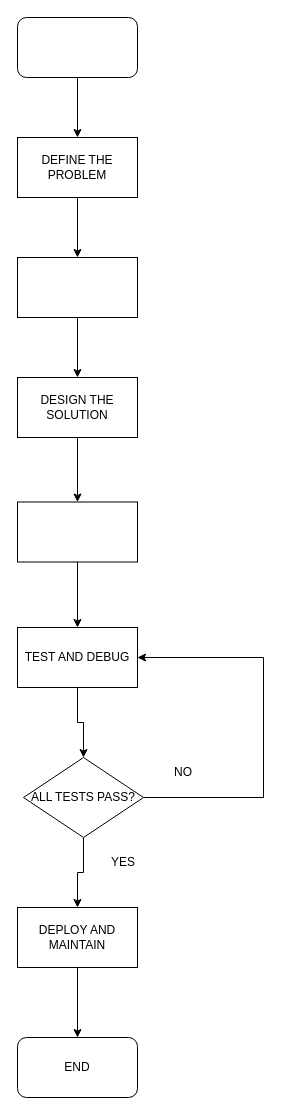
This 289x1115 diagram has some shape labels left out. Here are the shapes that lost their labels. From the top down, the box of each, then its label:
(16, 16, 138, 78): START
(16, 256, 138, 318): ANALYZE REQUIREMENT
(16, 501, 138, 562): DEVELOP THE PROGRAM
